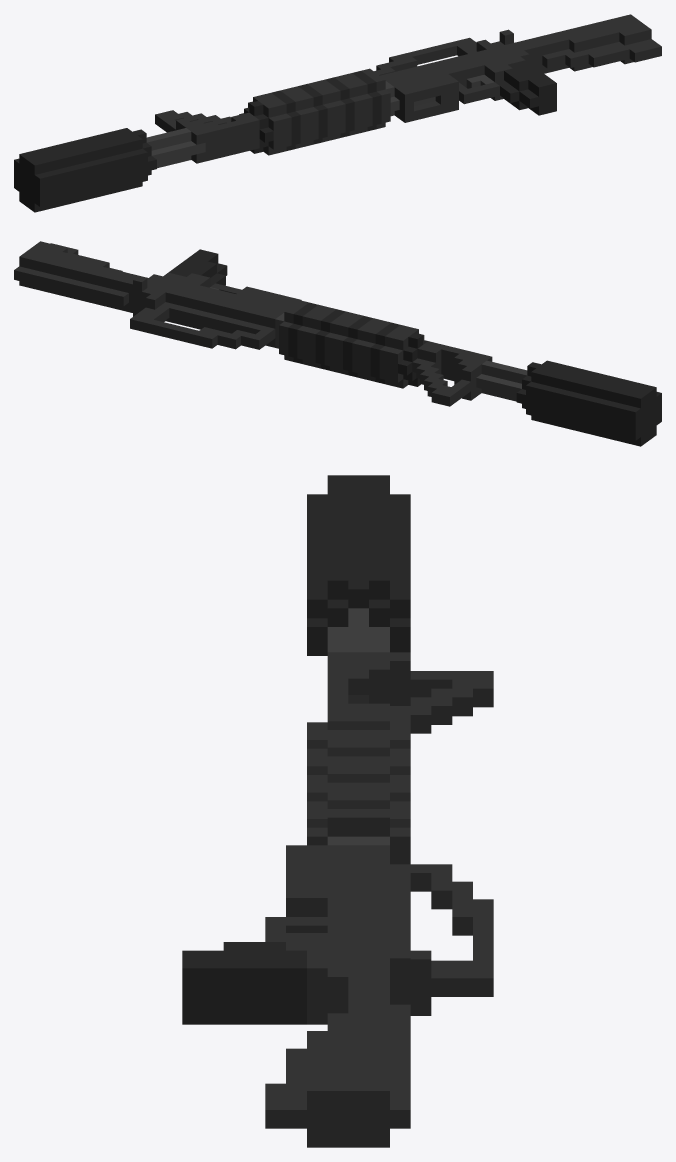
Rendered from m4a1.vox.obj.
3 renders of one model, top to bottom at view 1: azimuth 30°, elevation 25°; view 2: azimuth 150°, elevation 25°; view 3: azimuth 270°, elevation 25°, orthographic. The views are drawn at different scales.
Bounding box in the file's own units: 6.8 × 0.5 × 1.5.
Materials: 1 (1 with a texture image).
